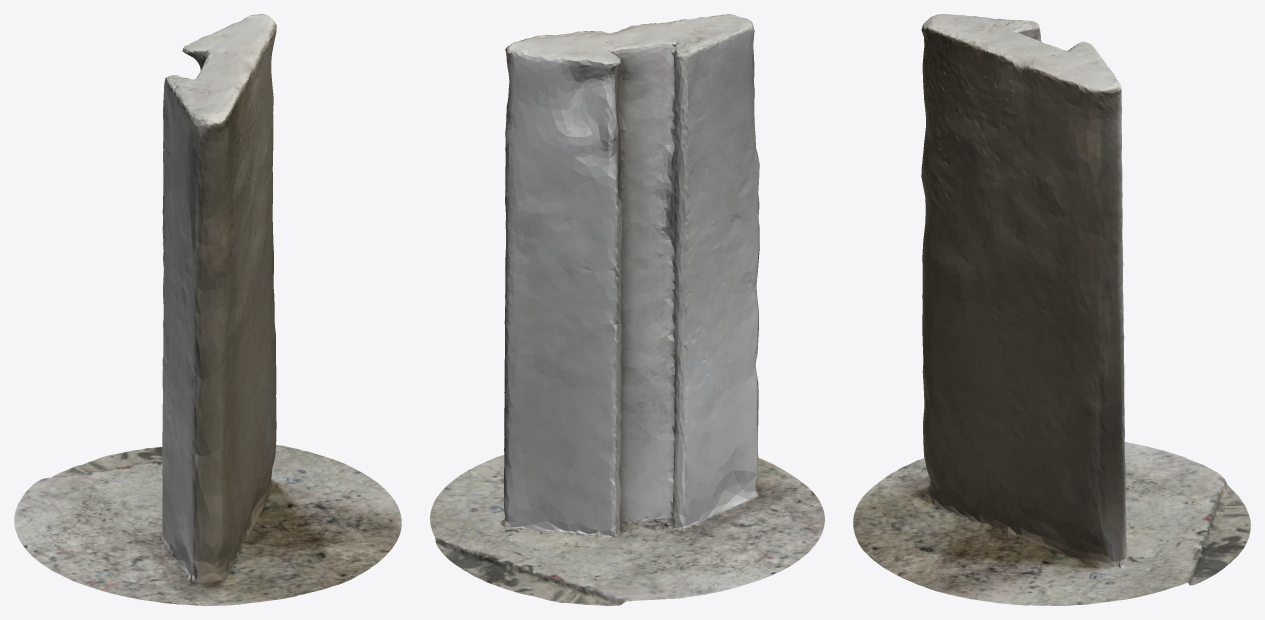
3 views of the same model, side by side, from view 1: azimuth 30°, elevation 25°; view 2: azimuth 150°, elevation 25°; view 3: azimuth 270°, elevation 25° (orthographic). The views are drawn at different scales.
Size of the model in its own units: 0.3866 by 0.5177 by 0.3866.
Materials: 1 (1 with a texture image).
